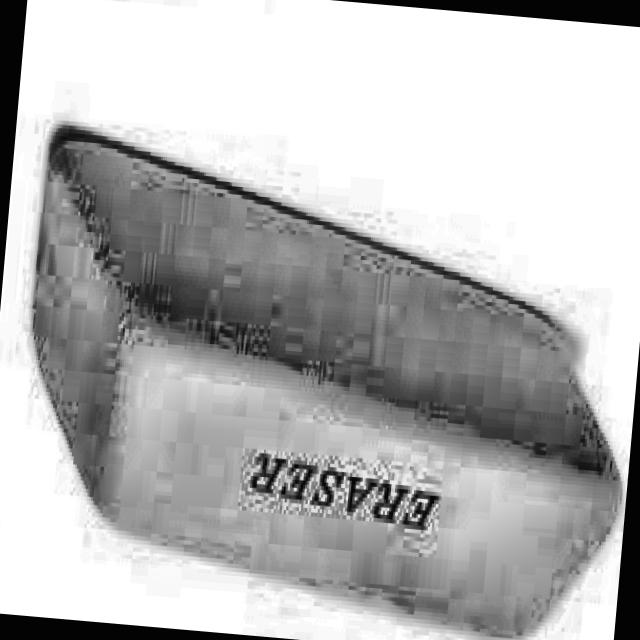eraser: (2, 123, 640, 640)
